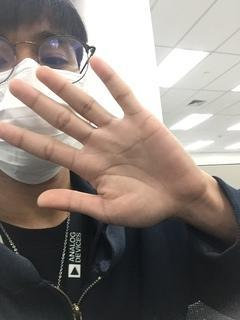hand: (2, 54, 203, 225)
